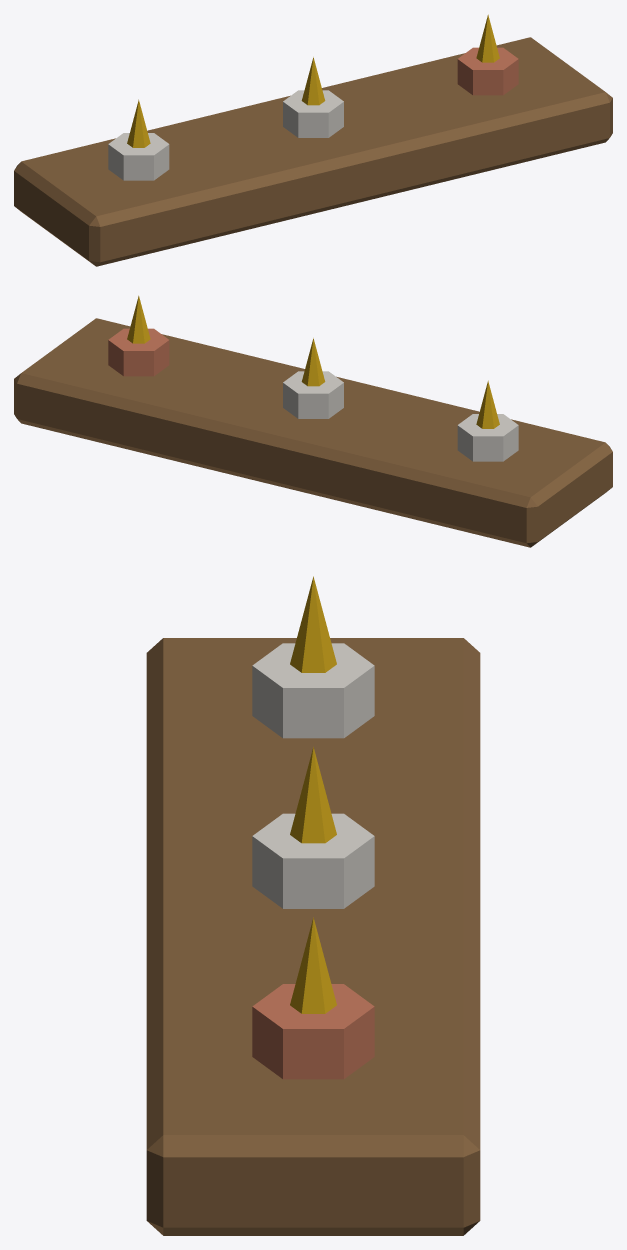
File: candle-holder-13.glb
3 views of the same model, one above another, from view 1: azimuth 30°, elevation 25°; view 2: azimuth 150°, elevation 25°; view 3: azimuth 270°, elevation 25° (orthographic). The views are drawn at different scales.
Parts seen in each view (by area): view 1: candle_holder_13; view 2: candle_holder_13; view 3: candle_holder_13.
Part boxes in pixels (x1,y1,x2,y2): candle_holder_13: [14, 14, 612, 266]; candle_holder_13: [14, 295, 612, 547]; candle_holder_13: [146, 576, 480, 1235].
Bounding box in the file's own units: 0.4351 × 0.0955 × 0.12.
